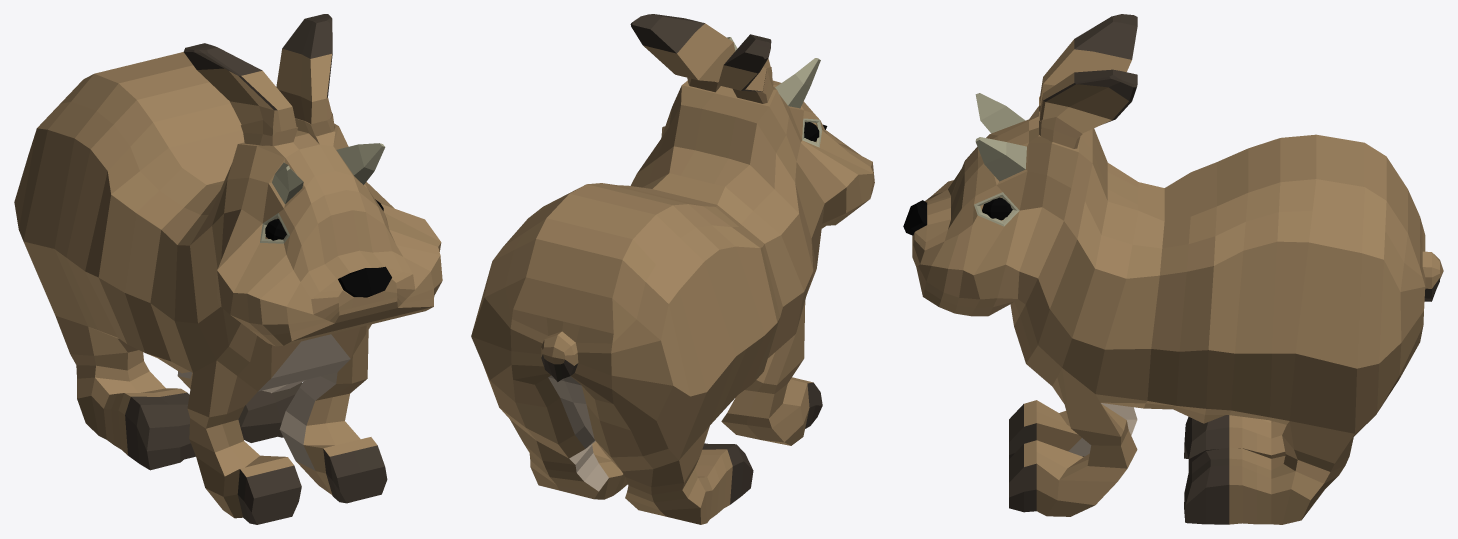
Rendered from XJackalope (Baby) fix.fbx.
3 views of the same model, side by side, from view 1: azimuth 30°, elevation 25°; view 2: azimuth 150°, elevation 25°; view 3: azimuth 270°, elevation 25° (orthographic). The views are drawn at different scales.
Parts seen in each view (by area): view 1: Plane; view 2: Plane; view 3: Plane.
Boxes of the visible parts, x1=… form: Plane: x1=14, y1=14, x2=442, y2=524; Plane: x1=471, y1=14, x2=874, y2=524; Plane: x1=903, y1=14, x2=1443, y2=524.
Size of the model in its own units: 94.76 by 167 by 186.
